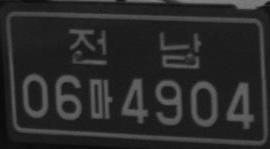0: (189, 80, 218, 128), (22, 73, 49, 118)
4: (225, 82, 255, 129), (121, 77, 148, 123)
6: (54, 74, 82, 120)
9: (154, 79, 182, 126)
마: (89, 79, 112, 119)
전남_D: (68, 28, 201, 68)
